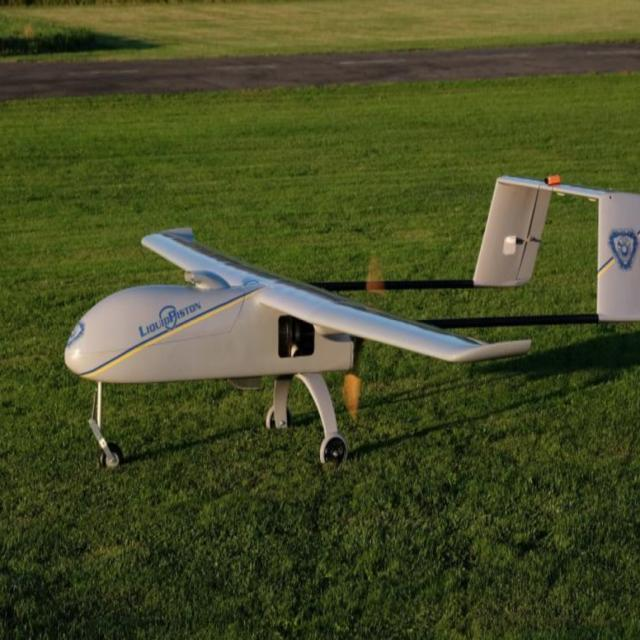iha: (17, 167, 634, 468)
